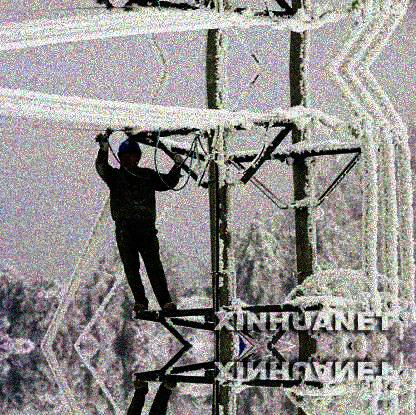helmet: (117, 139, 142, 170)
